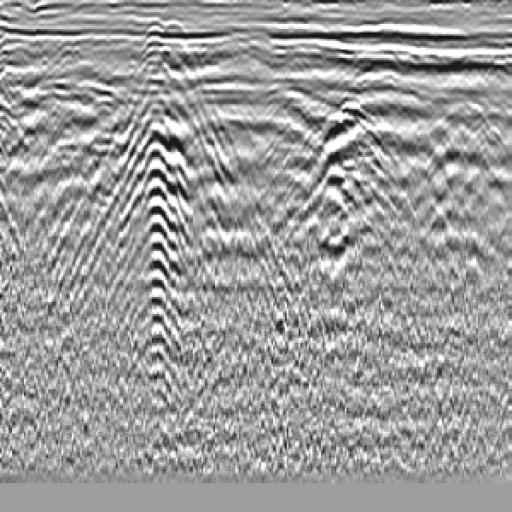metalic: (155, 54, 284, 312), (33, 44, 149, 267)
non-metallic: (276, 79, 422, 289)
